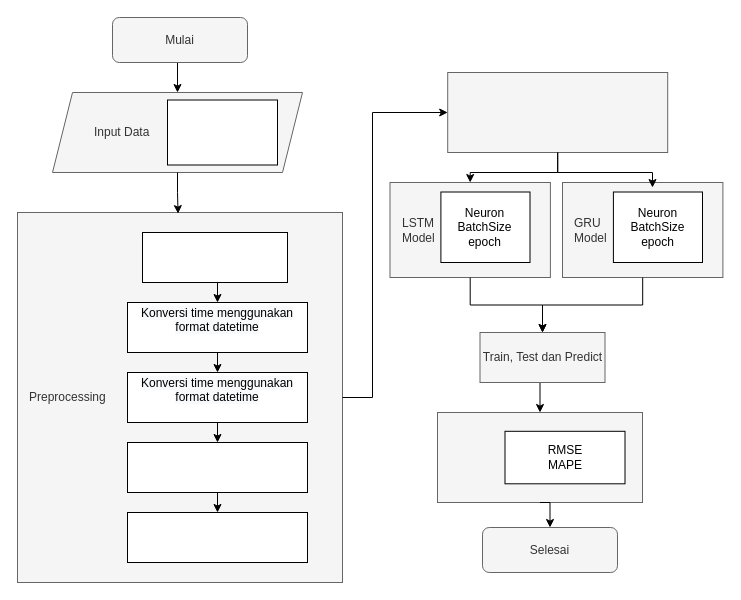
Some shapes in this 741 by 600 pixel diagram are drawn without their labels. The box of each missing label's shape, as (x1, y1, x2, y2) in pixels:
Evaluasi: (436, 412, 642, 502)
Hitung indikator teknikal: (142, 232, 288, 282)
Konversi timeseries ke supervised learning dengan melakukan shifting t-1: (126, 512, 308, 562)
Membagi Data Testing dan Data Train: (447, 72, 668, 152)
Scaling menggunakan MinMax dengan range 0,1: (126, 442, 308, 492)
Scraping Data Binance Api: (166, 99, 278, 165)
